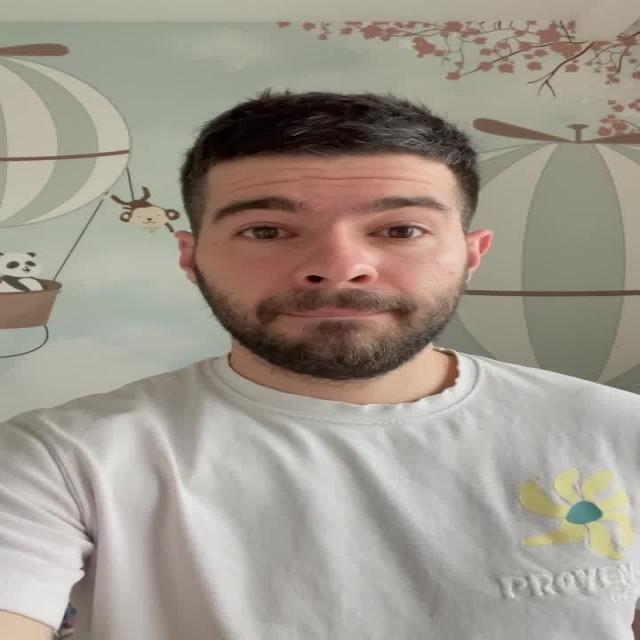earlobe: (172, 230, 203, 286), (464, 229, 496, 283)
